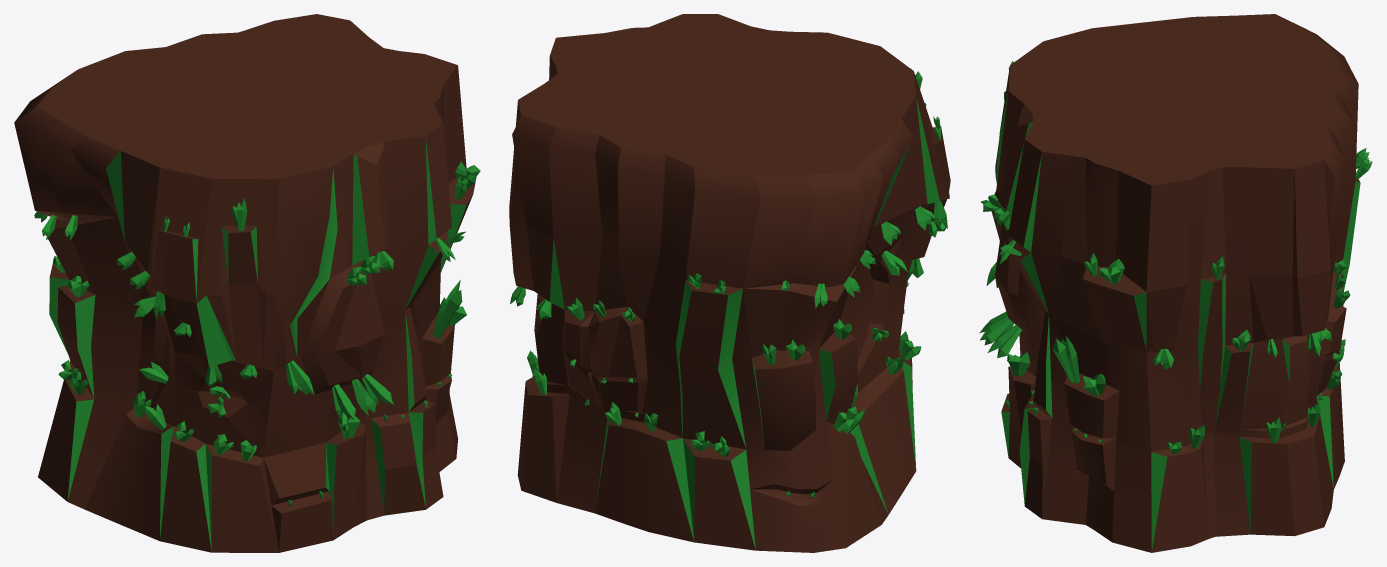
Rendered from Emerald_8_1.fbx.
3 views of the same model, side by side, from view 1: azimuth 30°, elevation 25°; view 2: azimuth 150°, elevation 25°; view 3: azimuth 270°, elevation 25° (orthographic). The views are drawn at different scales.
Parts seen in each view (by area): view 1: Rock_8_1.079, Rock_8_1.066, Rock_8_1.072; view 2: Rock_8_1.079; view 3: Rock_8_1.079, Rock_8_1.066, Rock_8_1.074.
Part boxes in pixels (x1,y1,x2,y2): Rock_8_1.079: [14, 14, 476, 552]; Rock_8_1.066: [433, 280, 462, 338]; Rock_8_1.072: [286, 360, 314, 395]; Rock_8_1.079: [509, 14, 950, 552]; Rock_8_1.079: [991, 14, 1360, 552]; Rock_8_1.066: [1052, 336, 1079, 383]; Rock_8_1.074: [987, 325, 1021, 358].
Size of the model in its own units: 1620 by 1501 by 1459.
